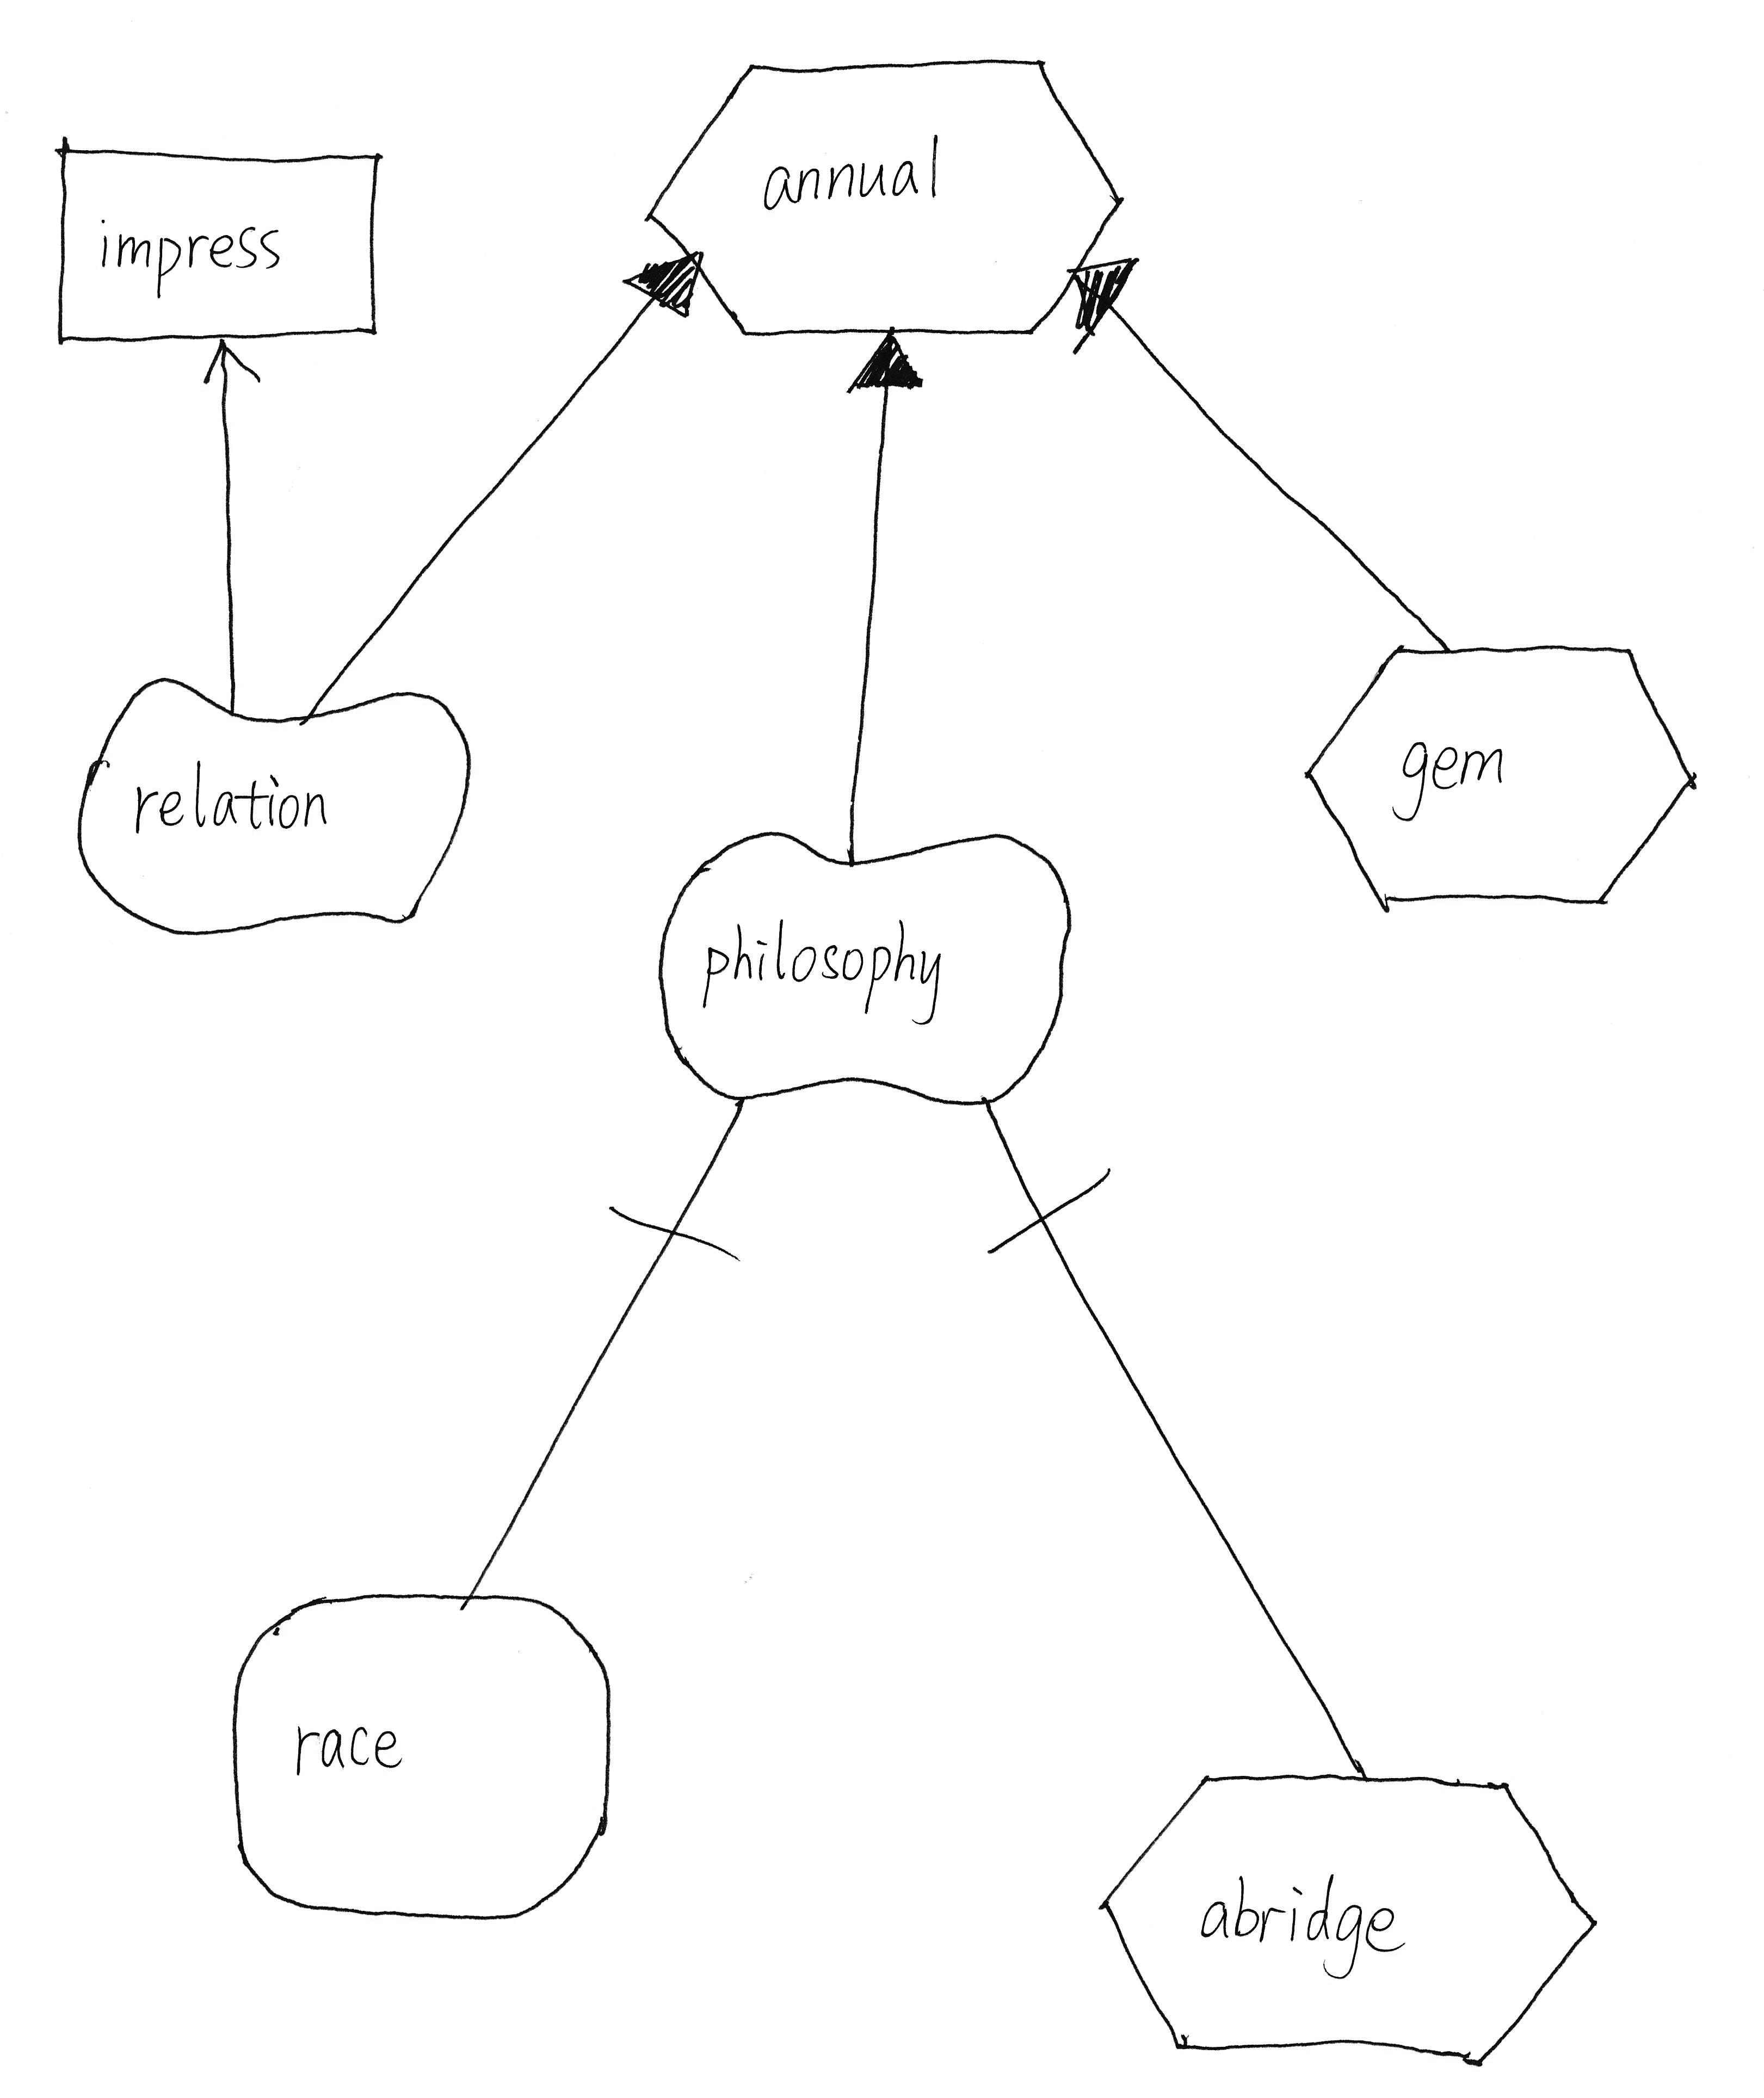and: (948, 1076, 1139, 1284), (597, 1090, 761, 1276)
arrow: (185, 324, 269, 404)
goal: (196, 1577, 642, 1937)
or: (1039, 233, 1151, 357), (826, 310, 945, 420), (607, 240, 730, 332)
quality: (626, 814, 1101, 1122), (61, 647, 495, 961)
resource: (26, 114, 402, 373)
task: (1078, 1752, 1620, 2081), (632, 42, 1136, 359), (1291, 618, 1734, 947)
